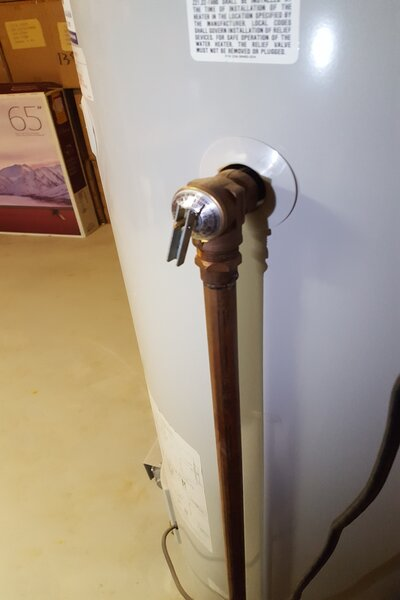valve: (169, 164, 262, 310)
